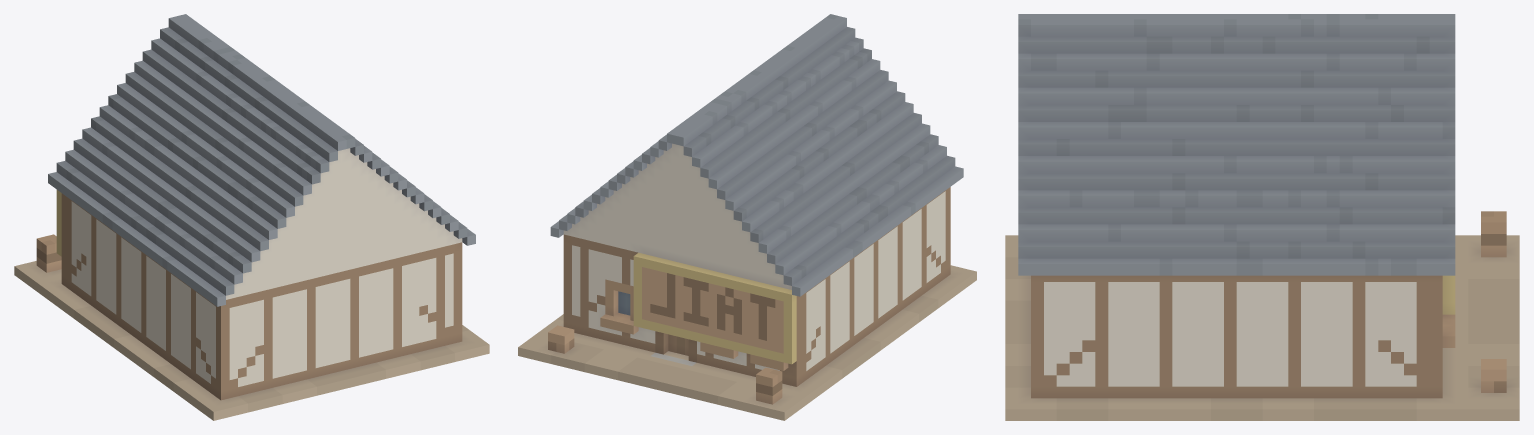
File: tailor.glb
3 renders of one model, left to right at view 1: azimuth 30°, elevation 25°; view 2: azimuth 150°, elevation 25°; view 3: azimuth 270°, elevation 25°, orthographic. The views are drawn at different scales.
Visible parts, largest first — view 1: tailor; view 2: tailor; view 3: tailor.
Part boxes in pixels (x1,y1,x2,y2): tailor: (14,14,489,420); tailor: (518,14,976,420); tailor: (1005,14,1519,420).
Bounding box in the file's own units: 4 × 3.38 × 5.
